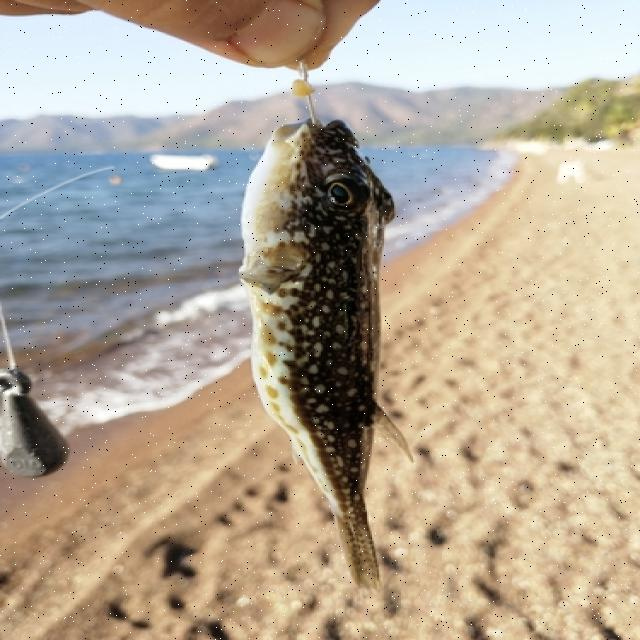Balik: (241, 120, 411, 587)
